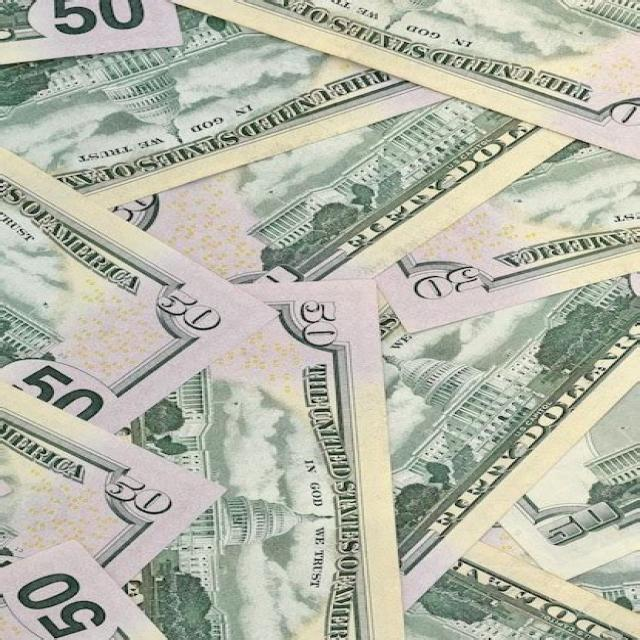Fifty: (99, 281, 403, 640), (0, 0, 473, 212), (367, 268, 640, 625), (116, 90, 586, 285), (0, 146, 279, 436), (0, 378, 230, 596)
